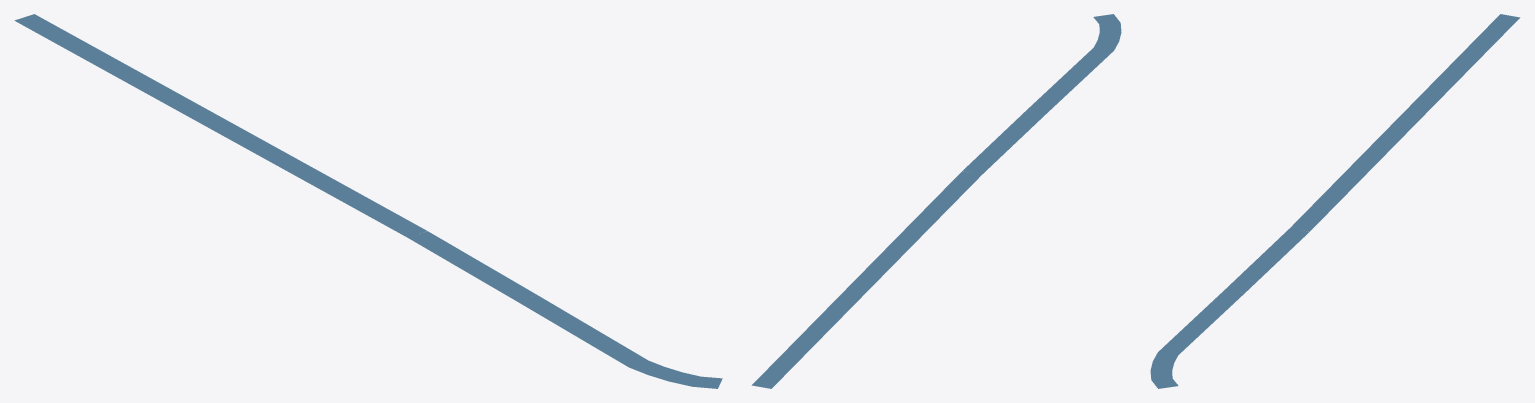
File: c_1643_17836_water.glb
3 renders of one model, left to right at view 1: azimuth 30°, elevation 25°; view 2: azimuth 150°, elevation 25°; view 3: azimuth 330°, elevation 25°, orthographic. The views are drawn at different scales.
Visible parts, largest first — view 1: geometry_0; view 2: geometry_0; view 3: geometry_0.
Boxes of the visible parts, x1=… form: geometry_0: x1=14, y1=14, x2=722, y2=388; geometry_0: x1=751, y1=14, x2=1121, y2=388; geometry_0: x1=1150, y1=14, x2=1520, y2=388.
Size of the model in its own units: 44.62 by 0 by 260.
